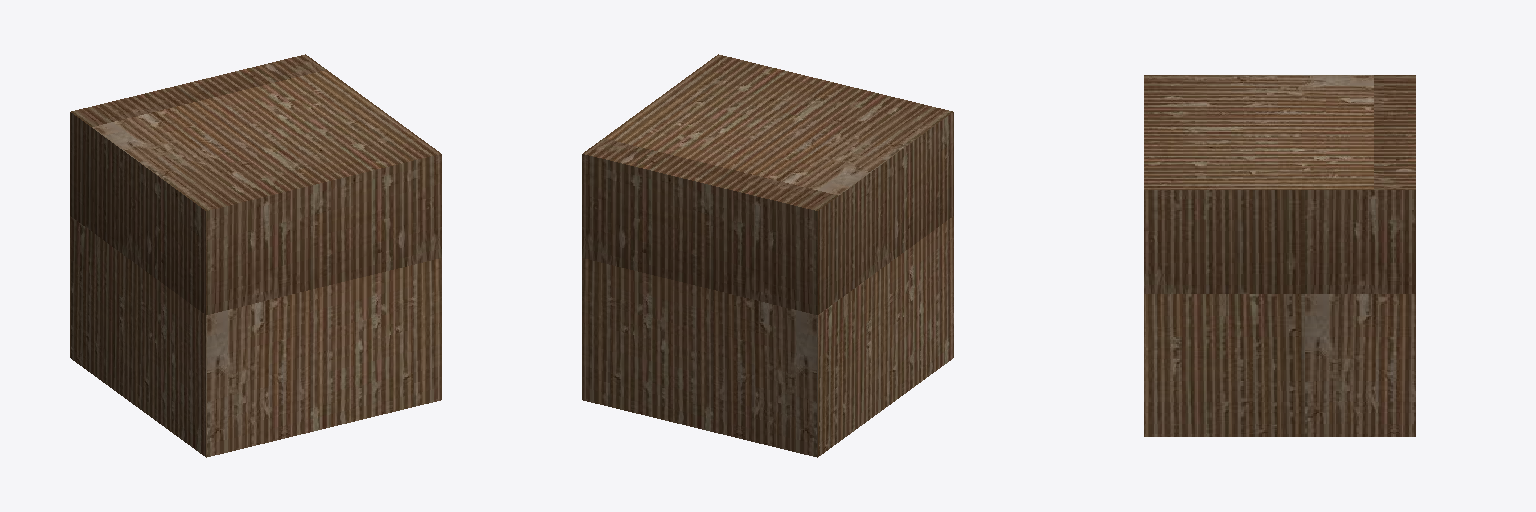
The picture shows the model from 3 angles: view 1: azimuth 30°, elevation 25°; view 2: azimuth 150°, elevation 25°; view 3: azimuth 270°, elevation 25°; orthographic projection.
Parts seen in each view (by area): view 1: Cube; view 2: Cube; view 3: Cube.
Boxes of the visible parts, x1=… form: Cube: x1=70, y1=54, x2=441, y2=457; Cube: x1=582, y1=54, x2=953, y2=457; Cube: x1=1144, y1=75, x2=1415, y2=436.
Size of the model in its own units: 2 by 2 by 2.
Materials: 1 (1 with a texture image).